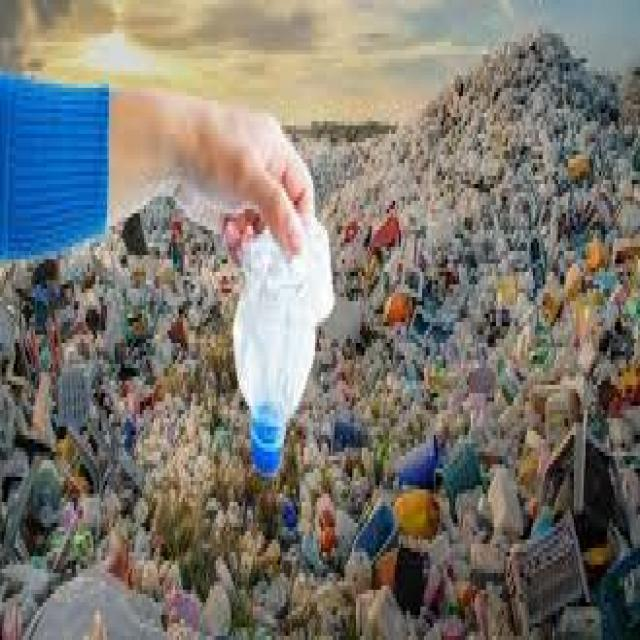heap: (390, 114, 624, 640)
